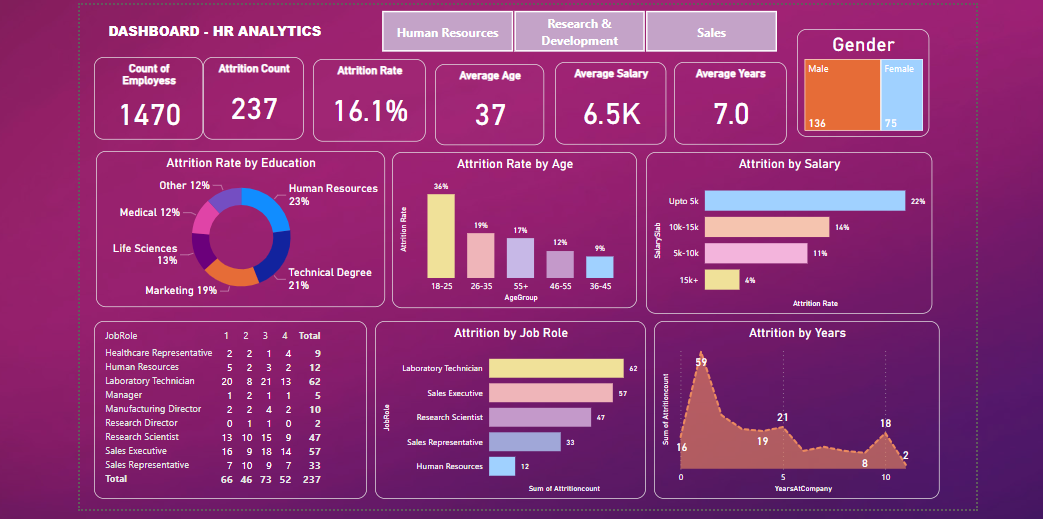

What the dashboard file says about the page in this screenshot:
{"tool":"powerbi","page":{"name":"Page 1","canvas":[1280,720],"ordinal":0},"visuals":[{"type":"card","title":"Count of Employess","fields":{"Values":["CountNonNull(HR_Analytics.EmpID)"]},"box":[19.7,73.8,155.7,118],"z":0},{"type":"card","title":"Attrition Count","fields":{"Values":["Sum(HR_Analytics.Attritioncount)"]},"box":[175.4,73.8,144.3,118],"z":1000},{"type":"card","title":"Attrition Rate","fields":{"Values":["HR_Analytics.Attrition Rate"]},"box":[332.8,77,160.7,118],"z":2000},{"type":"card","title":"Average Age","fields":{"Values":["Avg(HR_Analytics.Age)"]},"box":[506.6,83.6,155.7,116.4],"z":3000},{"type":"card","title":"Average Salary","fields":{"Values":["Avg(HR_Analytics.MonthlyIncome)"]},"box":[678.7,82,159,118],"z":4000},{"type":"card","title":"Average  Years ","fields":{"Values":["Avg(HR_Analytics.YearsAtCompany)"]},"box":[849.2,82,160.7,118],"z":5000},{"type":"donutChart","title":"Attrition Rate by Education","fields":{"Category":["HR_Analytics.EducationField"],"Y":["HR_Analytics.Attrition Rate"]},"box":[8.2,208.2,413.1,223],"z":6000},{"type":"clusteredColumnChart","title":"Attrition Rate by Age","fields":{"Category":["HR_Analytics.AgeGroup"],"Y":["HR_Analytics.Attrition Rate"]},"box":[439.3,209.8,350.8,223],"z":7000},{"type":"pivotTable","fields":{"Rows":["HR_Analytics.JobRole"],"Values":["Sum(HR_Analytics.Attritioncount)"],"Columns":["HR_Analytics.JobSatisfaction"]},"box":[19.7,450.8,390.2,254.1],"z":8000},{"type":"clusteredBarChart","title":"Attrition by Salary ","fields":{"Y":["HR_Analytics.Attrition Rate"],"Category":["HR_Analytics.SalarySlab"]},"box":[804.9,209.8,408.2,231.1],"z":9000},{"type":"clusteredBarChart","title":"Attrition by Job Role ","fields":{"Category":["HR_Analytics.JobRole"],"Y":["Sum(HR_Analytics.Attritioncount)"]},"box":[421.3,450.8,386.9,254.1],"z":10000},{"type":"areaChart","title":"Attrition by Years","fields":{"Y":["Sum(HR_Analytics.Attritioncount)"],"Category":["HR_Analytics.YearsAtCompany"]},"box":[819.7,450.8,408.2,254.1],"z":11000},{"type":"treemap","title":"Gender ","fields":{"Group":["HR_Analytics.Gender"],"Values":["Sum(HR_Analytics.Attritioncount)"]},"box":[1024.7,33.6,231.8,157.9],"z":12000},{"type":"slicer","fields":{"Values":["HR_Analytics.Department"]},"box":[406.2,1.5,613.8,69.2],"z":13000},{"type":"textbox","box":[35.4,18.5,333.8,40],"z":14000}]}

Visuals, with their boxes in screenshot pixels (x1, y1, x2, y2):
"Count of Employess" card: (x1=103, y1=61, x2=210, y2=142)
"Attrition Count" card: (x1=210, y1=61, x2=309, y2=142)
"Attrition Rate" card: (x1=318, y1=64, x2=428, y2=145)
"Average Age" card: (x1=437, y1=68, x2=544, y2=148)
"Average Salary" card: (x1=555, y1=67, x2=664, y2=148)
"Average  Years " card: (x1=672, y1=67, x2=782, y2=148)
"Attrition Rate by Education" donutChart: (x1=95, y1=154, x2=378, y2=306)
"Attrition Rate by Age" clusteredColumnChart: (x1=391, y1=155, x2=631, y2=307)
pivotTable - HR_Analytics.JobRole x Sum(HR_Analytics.Attritioncount): (x1=103, y1=320, x2=371, y2=494)
"Attrition by Salary " clusteredBarChart: (x1=641, y1=155, x2=921, y2=313)
"Attrition by Job Role " clusteredBarChart: (x1=378, y1=320, x2=644, y2=494)
"Attrition by Years" areaChart: (x1=651, y1=320, x2=931, y2=494)
"Gender " treemap: (x1=792, y1=34, x2=951, y2=142)
slicer - HR_Analytics.Department: (x1=368, y1=12, x2=789, y2=59)
textbox: (x1=114, y1=24, x2=343, y2=51)
